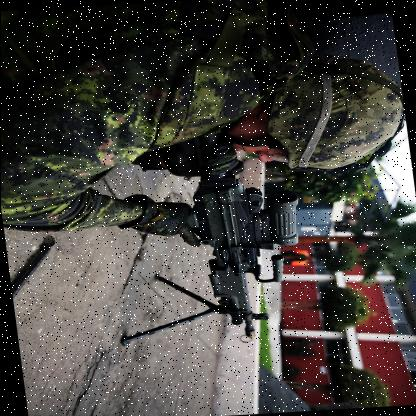rifle: (164, 118, 310, 344)
